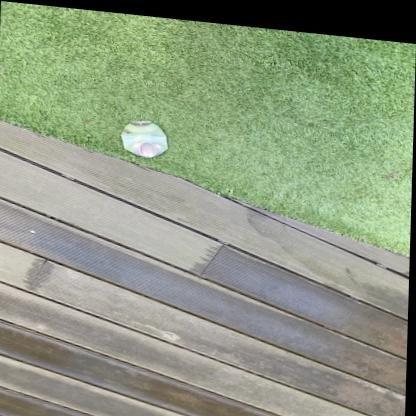trash: (121, 121, 167, 157)
